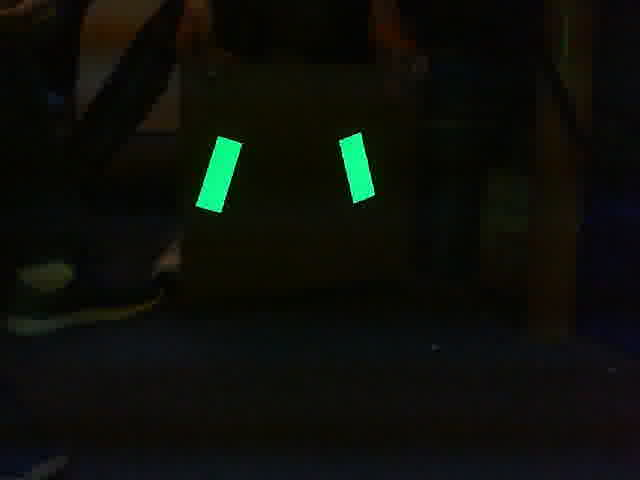target: (193, 132, 379, 216)
